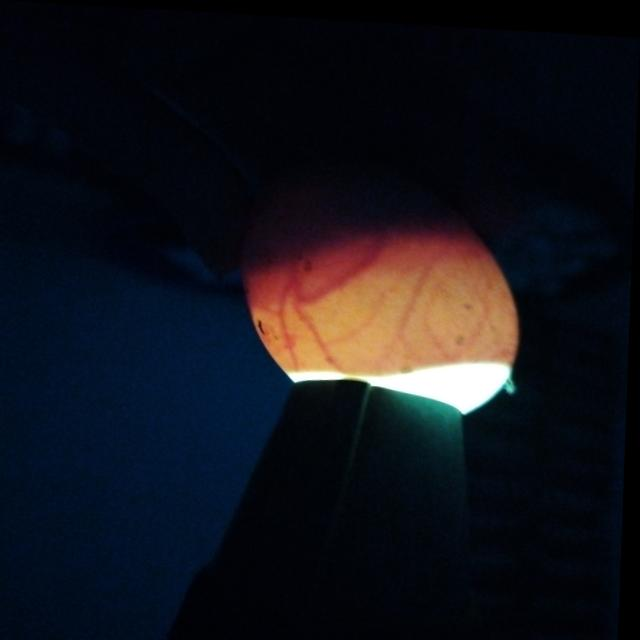Embriao: (235, 140, 465, 278)
